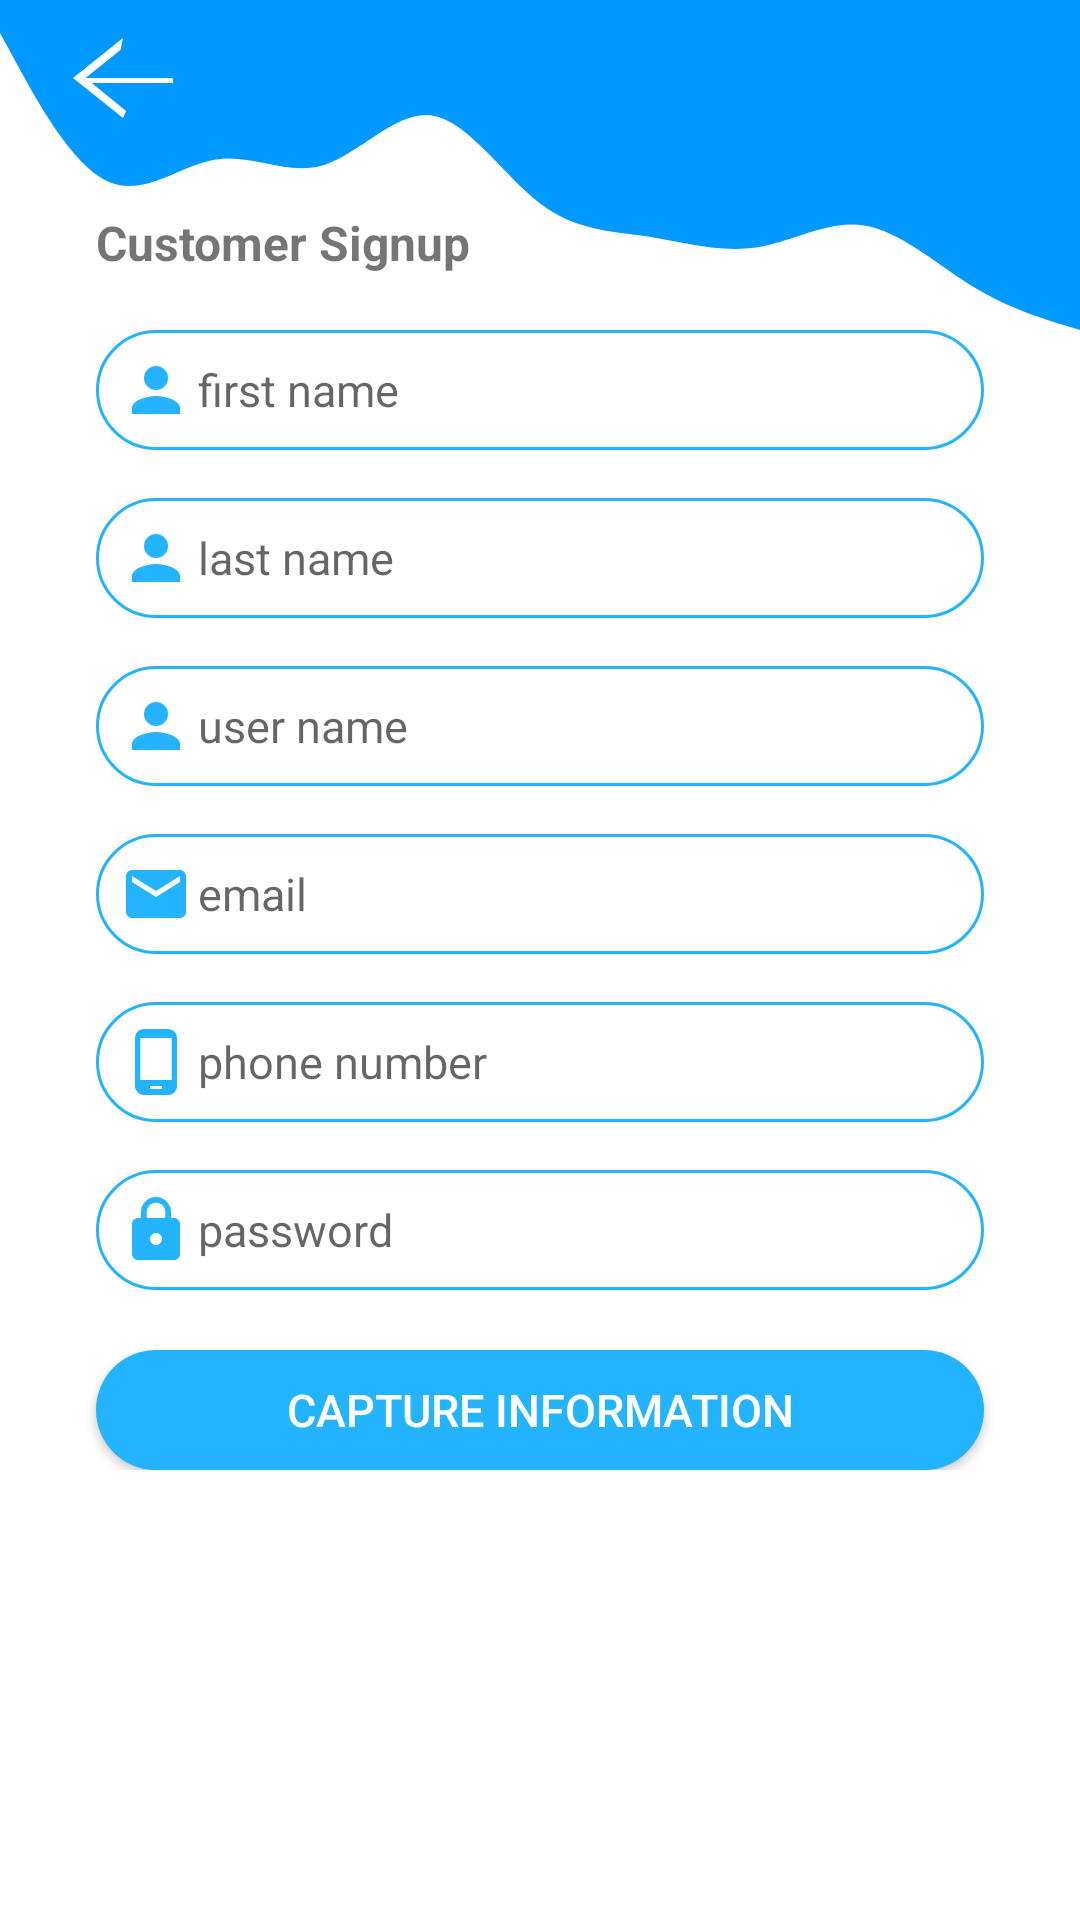

Screen size 1080 × 1920. Icon name, then its box in pixels as {"left": x1, "top": y1, "right": x2, "bottom": y2}:
back arrow: {"left": 73, "top": 38, "right": 173, "bottom": 118}
